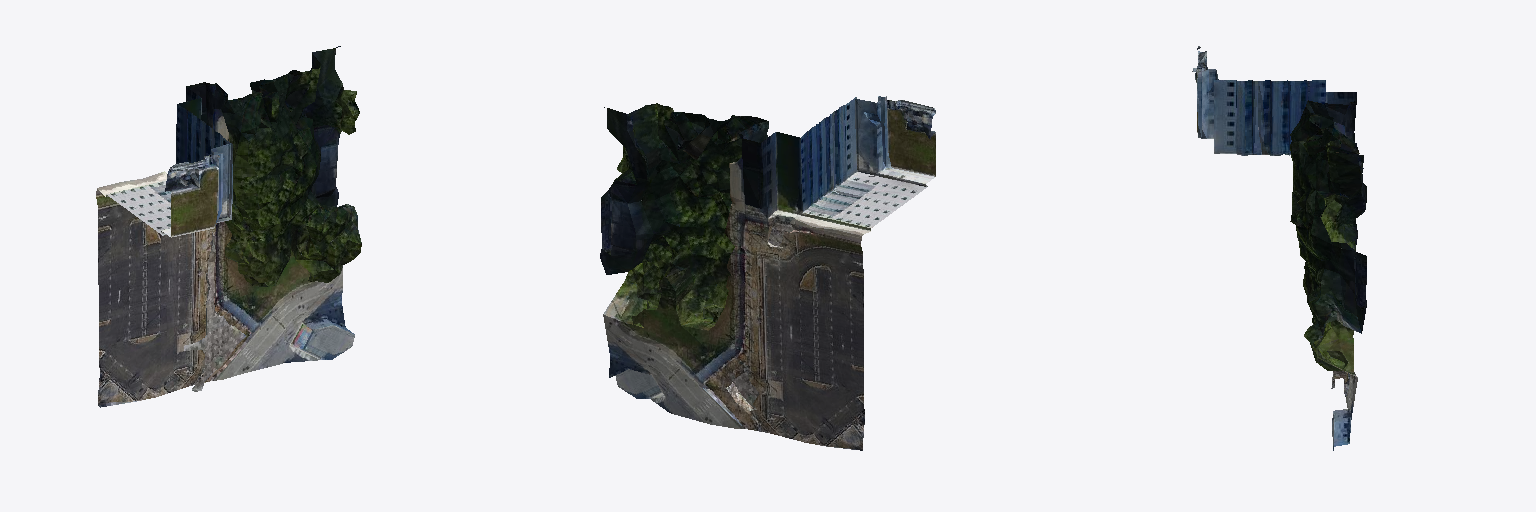
The picture shows the model from 3 angles: view 1: azimuth 30°, elevation 25°; view 2: azimuth 150°, elevation 25°; view 3: azimuth 270°, elevation 25°; orthographic projection.
Parts seen in each view (by area): view 1: obj_0; view 2: obj_0; view 3: obj_0.
Part boxes in pixels (left/top/right/bottom): obj_0: left=96, top=46, right=361, bottom=407; obj_0: left=600, top=96, right=935, bottom=450; obj_0: left=1192, top=46, right=1366, bottom=450.
Size of the model in its own units: 80.35 by 90.28 by 48.11.
1 materials, 1 textured.